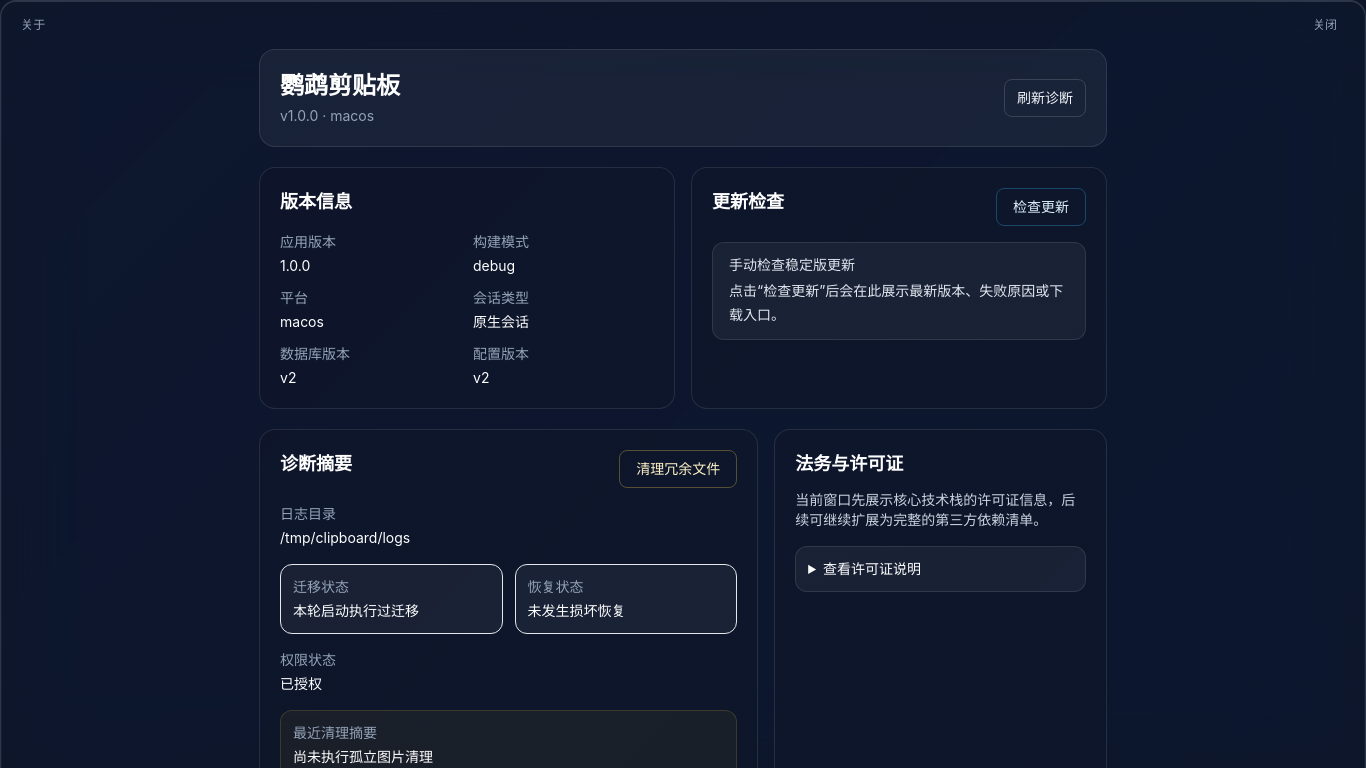
Test: AboutWindow update check › 检查失败时展示失败结果且不影响其他区域继续使用
Expected: the text with test id "about-log-directory" reads "/tmp/clipboard/logs", x1=280 y1=529 x2=410 y2=546
What coordinates should you click on to do the following:
click the button with test id "about-check-update-button"
I would click on:
 (1041, 207)
Its box is x1=996 y1=188 x2=1086 y2=226.
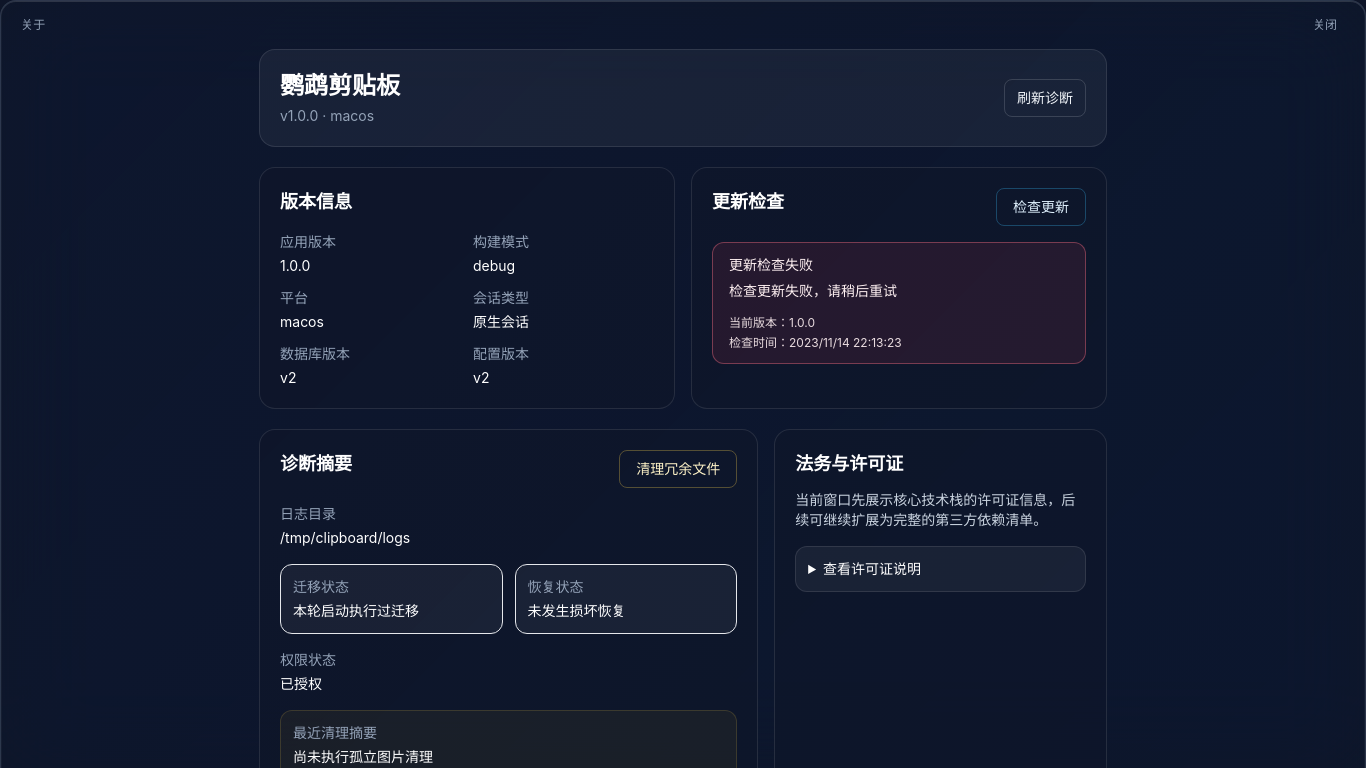
Expected: the element with test id "about-release-card" shows "1.0.0", x1=280 y1=257 x2=310 y2=274
Result: the element with test id "about-update-result" shows "更新检查失败" at x1=729 y1=256 x2=813 y2=273
Result: the element with test id "about-update-result" shows "检查更新失败，请稍后重试" at x1=729 y1=282 x2=897 y2=299
